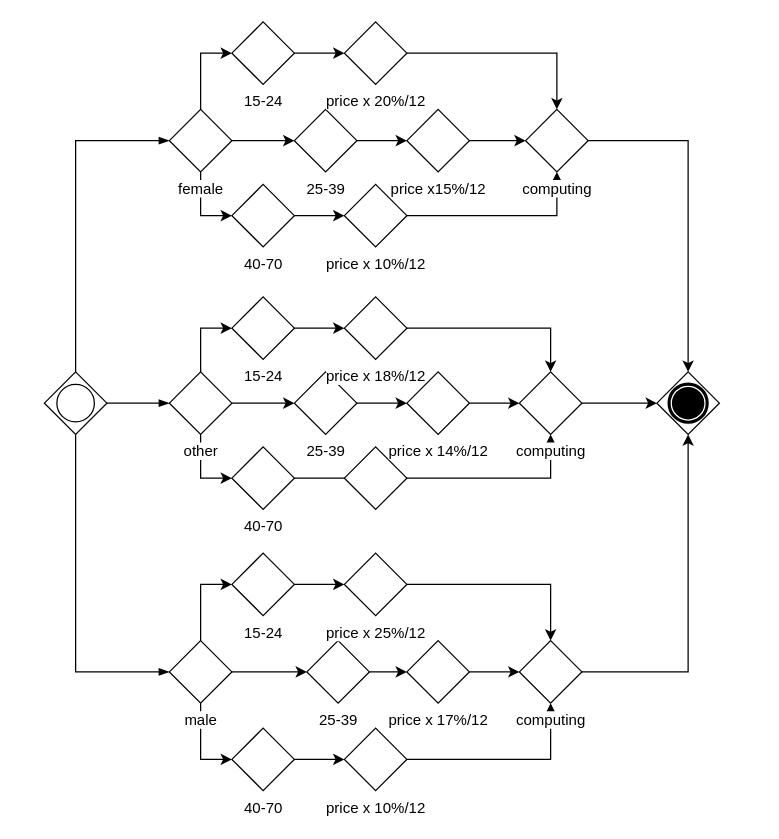
This 779x839 diagram has some shape labels left out. Each missing label, with the box of its shape:
price x 9%/12: (343, 446, 407, 509)
what is your sex: (43, 371, 107, 434)
your insurance price: (656, 371, 719, 434)
